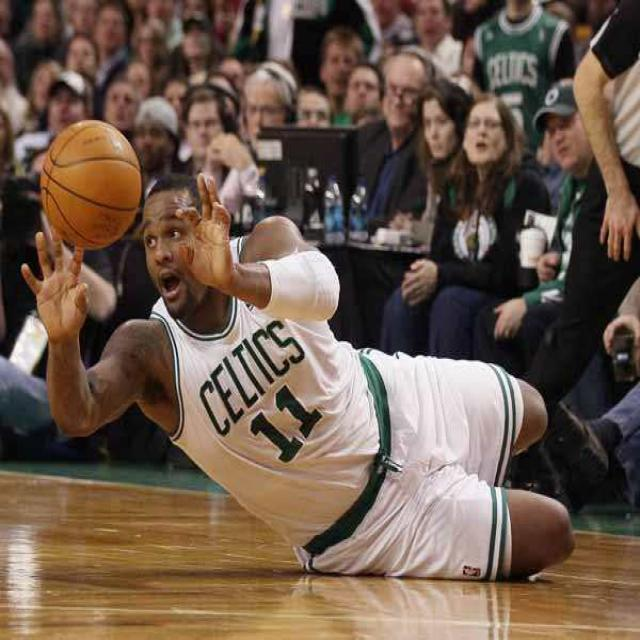10-: (0, 4, 631, 485)
down: (25, 167, 579, 592)
